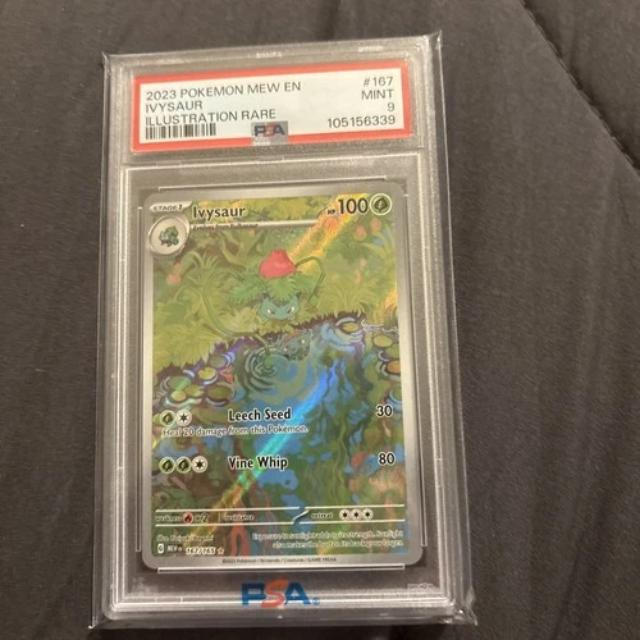Card: (137, 174, 427, 569)
Name: (187, 200, 252, 220)
